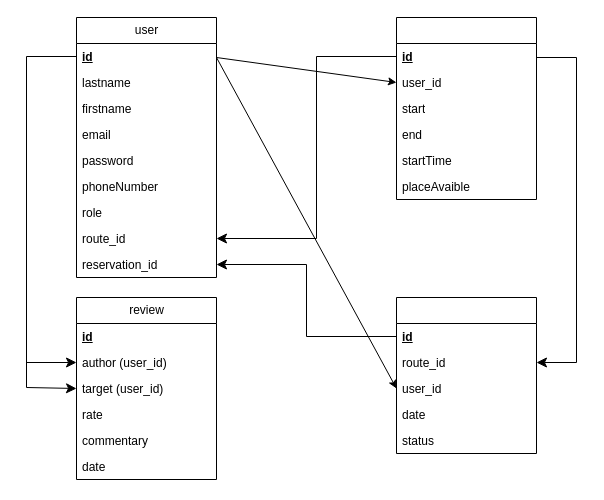
Some shapes in this 604 by 500 pixel diagram are drawn without their labels. Here are the shapes that lost their labels. From the top down, the box of each, then its label:
(396, 16, 536, 200): route
(396, 296, 536, 454): reservation
